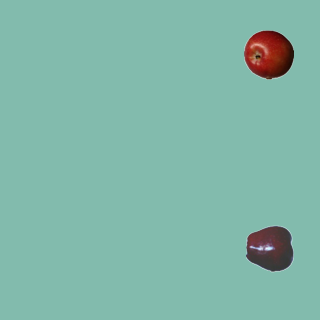Apple Braeburn: (243, 29, 293, 79)
Apple Red Delicious: (245, 223, 295, 273)
